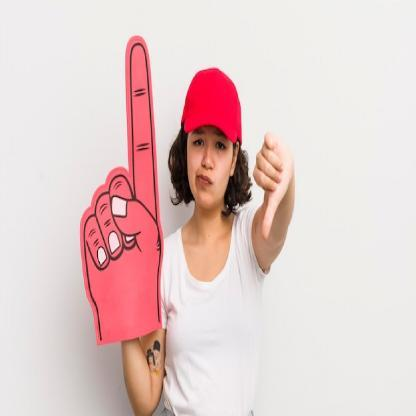thumb_down: (250, 129, 290, 243)
